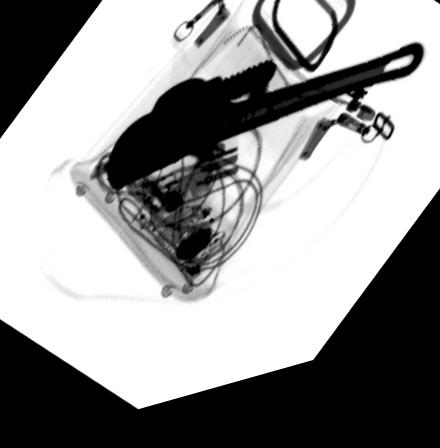Wrench: (103, 63, 426, 201)
